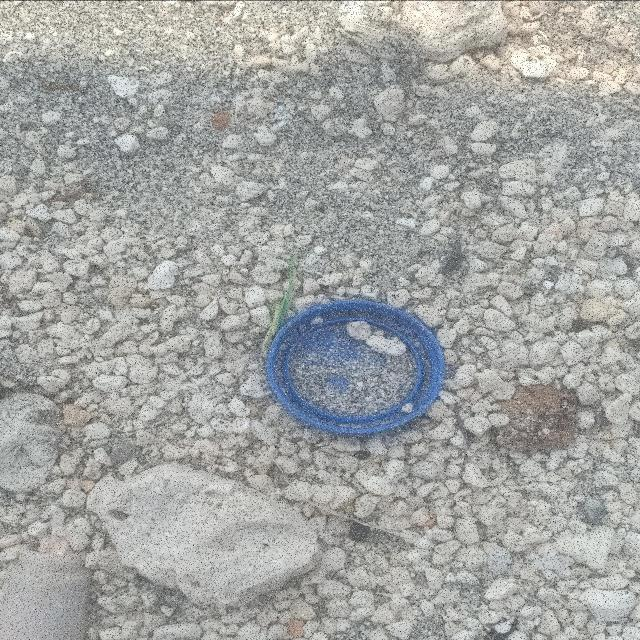plastic_waste: (269, 299, 446, 436)
